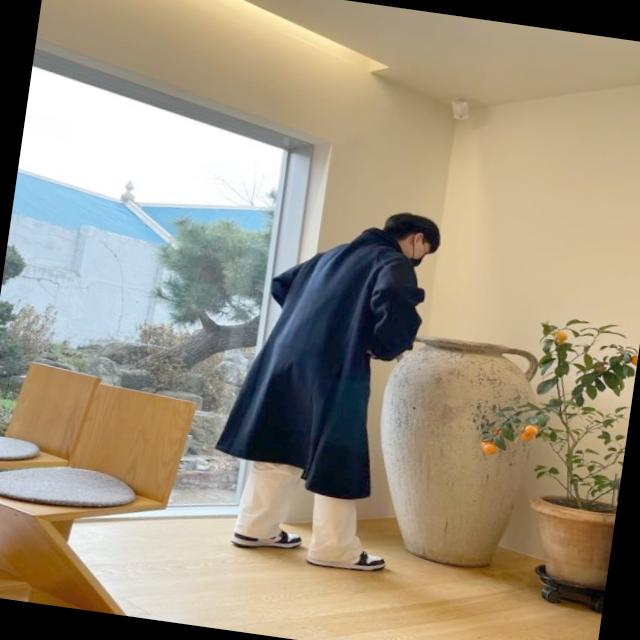coat: (208, 210, 432, 508)
cottonpants: (230, 457, 372, 569)
